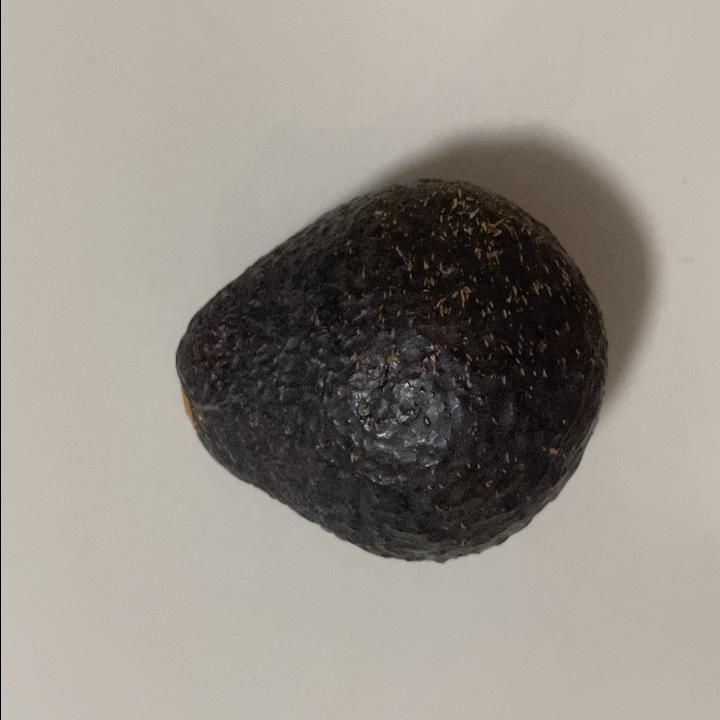Level3: (162, 167, 614, 576)
